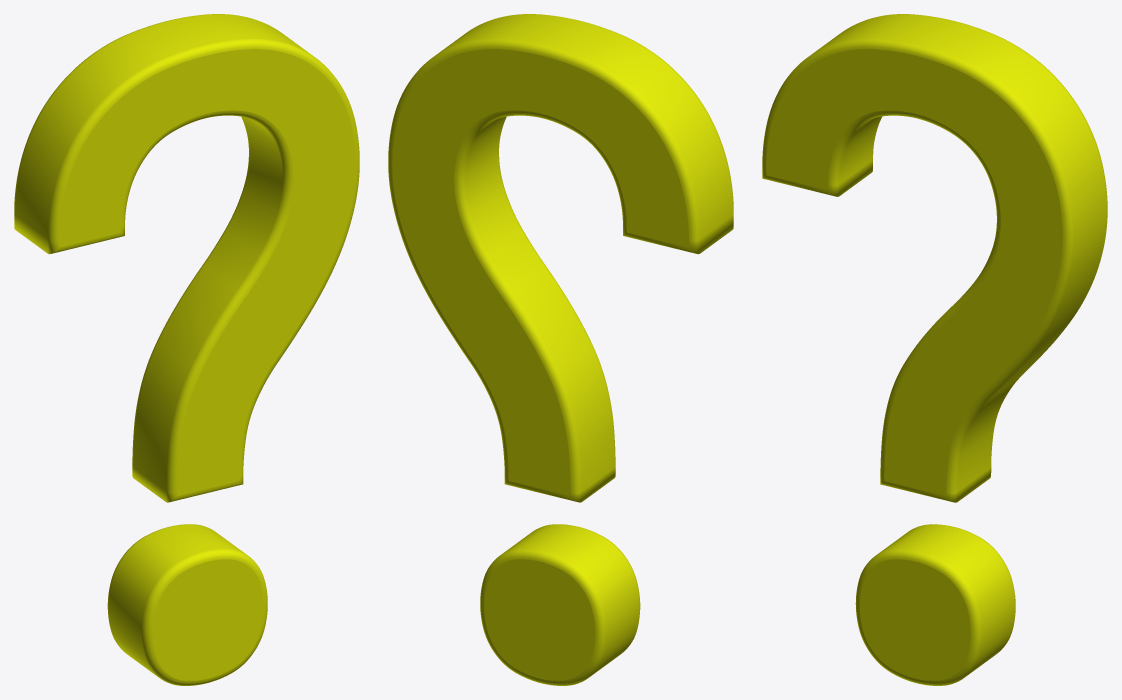
File: FaultOption.glb
3 renders of one model, left to right at view 1: azimuth 30°, elevation 25°; view 2: azimuth 150°, elevation 25°; view 3: azimuth 330°, elevation 25°, orthographic.
Parts seen in each view (by area): view 1: Text; view 2: Text; view 3: Text.
Part boxes in pixels (box(x1,y1,x2,y2)): Text: box(14, 14, 359, 685); Text: box(388, 14, 733, 685); Text: box(762, 14, 1107, 685).
Bounding box in the file's own units: 0.2193 × 0.4303 × 0.05.
